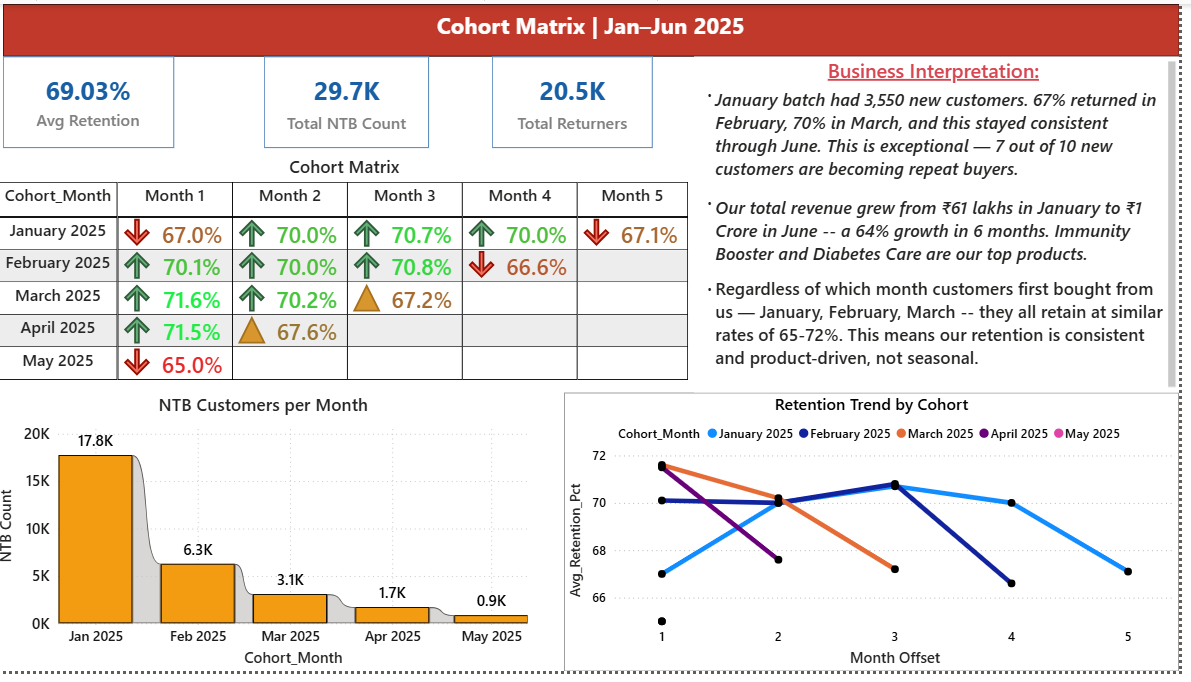

This screenshot's page, from the dashboard's own definition file:
{"tool":"powerbi","page":{"name":"Cohort Retention","canvas":[1280,720],"ordinal":1},"visuals":[{"type":"textbox","box":[10.1,0,1269.9,56.7],"z":0},{"type":"card","fields":{"Values":["_Measures.Total NTB Count"]},"box":[291.5,56.7,178.1,98.8],"z":1000},{"type":"card","fields":{"Values":["_Measures.Total Returners"]},"box":[537.6,56.7,173.3,98.8],"z":2000},{"type":"cardVisual","fields":{"Data":["_Measures.Avg Retention"]},"box":[9.7,56.7,184.6,98.8],"z":3000},{"type":"pivotTable","title":"Cohort Matrix","fields":{"Rows":["cohort_matrix.Cohort_Month.Variation.Date Hierarchy.Month"],"Columns":["cohort_matrix.Month_Label"],"Values":["Sum(cohort_matrix.Division)"]},"box":[0,161.9,756.2,257.5],"z":4000},{"type":"columnChart","title":"NTB Customers per Month","fields":{"Category":["cohort_matrix.Cohort_Month"],"Y":["Sum(cohort_matrix.NTB_Count)"]},"box":[0,419.4,581.3,301.2],"z":5000},{"type":"lineChart","title":"Retention Trend by Cohort","fields":{"Category":["cohort_matrix.Month_Offset"],"Y":["Avg(cohort_matrix.Retention_Pct)"],"Series":["cohort_matrix.Cohort_Month"]},"box":[615.3,419.4,663.9,301.2],"z":6000},{"type":"textbox","box":[756.2,56.7,524.6,362.7],"z":6001}]}

Visuals, with their boxes in screenshot pixels (x1, y1, x2, y2), scaled from the page's 1280x720 canvas onto the 1191x682 screenshot:
textbox: detection(9, 0, 1190, 54)
card - _Measures.Total NTB Count: detection(271, 54, 437, 147)
card - _Measures.Total Returners: detection(500, 54, 661, 147)
cardVisual - _Measures.Avg Retention: detection(9, 54, 181, 147)
"Cohort Matrix" pivotTable: detection(0, 153, 704, 397)
"NTB Customers per Month" columnChart: detection(0, 397, 541, 681)
"Retention Trend by Cohort" lineChart: detection(573, 397, 1190, 681)
textbox: detection(704, 54, 1190, 397)
